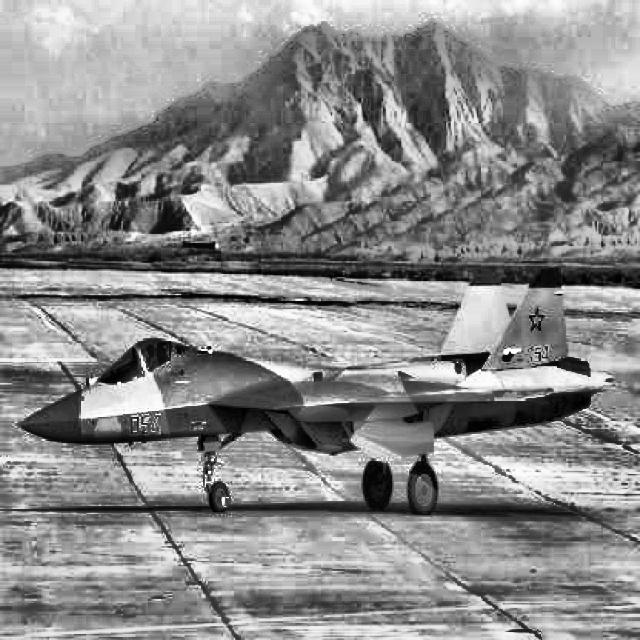Su57: (17, 267, 626, 511)
